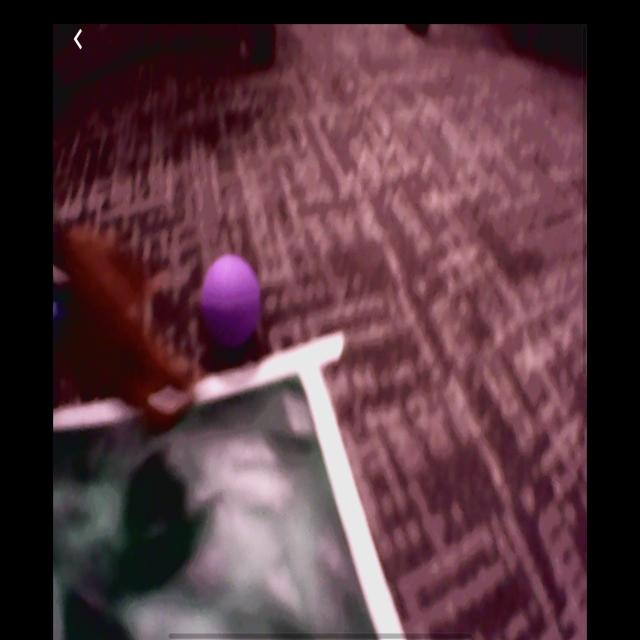ball: (200, 255, 261, 349)
